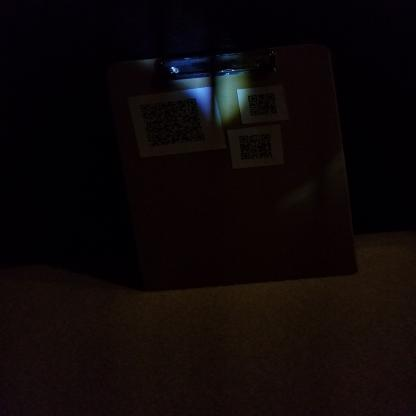qr: (137, 96, 209, 149), (237, 131, 276, 164), (245, 91, 280, 117)
